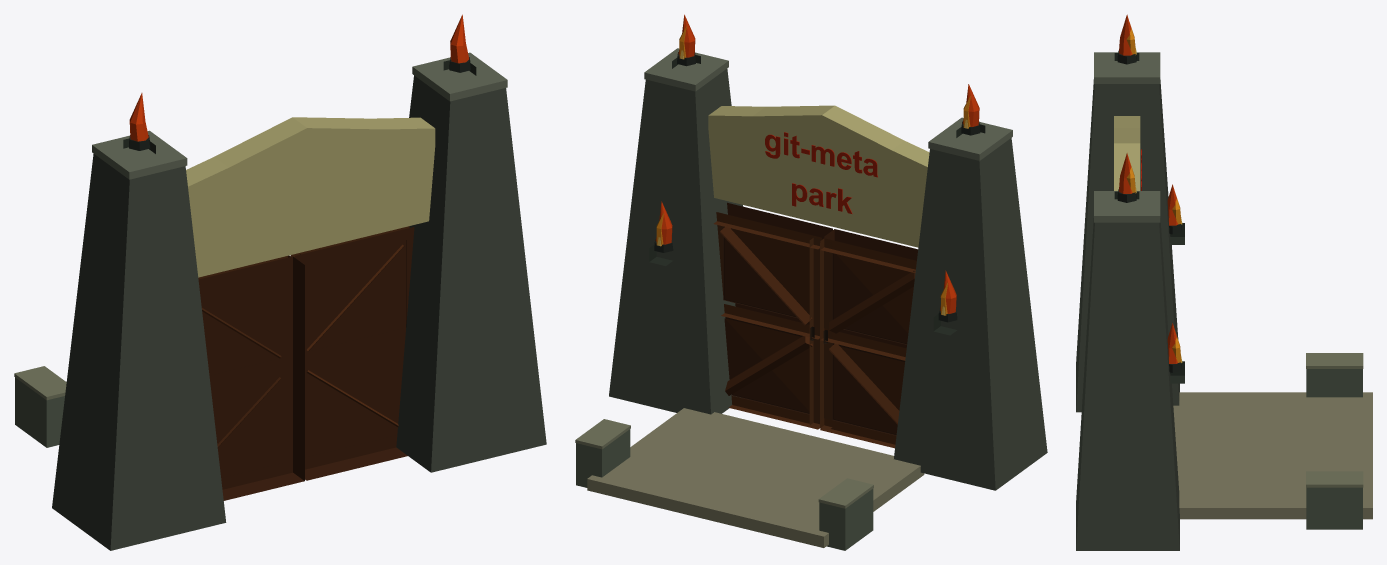
File: SM_Gate.fbx
The picture shows the model from 3 angles, left to right: view 1: azimuth 30°, elevation 25°; view 2: azimuth 150°, elevation 25°; view 3: azimuth 270°, elevation 25°; orthographic projection. The views are drawn at different scales.
Parts seen in each view (by area): view 1: SM_Gate • FBX; view 2: SM_Gate • FBX; view 3: SM_Gate • FBX.
Boxes of the visible parts, left/top/right/bottom form: SM_Gate • FBX: left=14, top=14, right=546, bottom=550; SM_Gate • FBX: left=575, top=14, right=1047, bottom=550; SM_Gate • FBX: left=1076, top=14, right=1372, bottom=550.
Size of the model in its own units: 2450 by 1630 by 2315.
